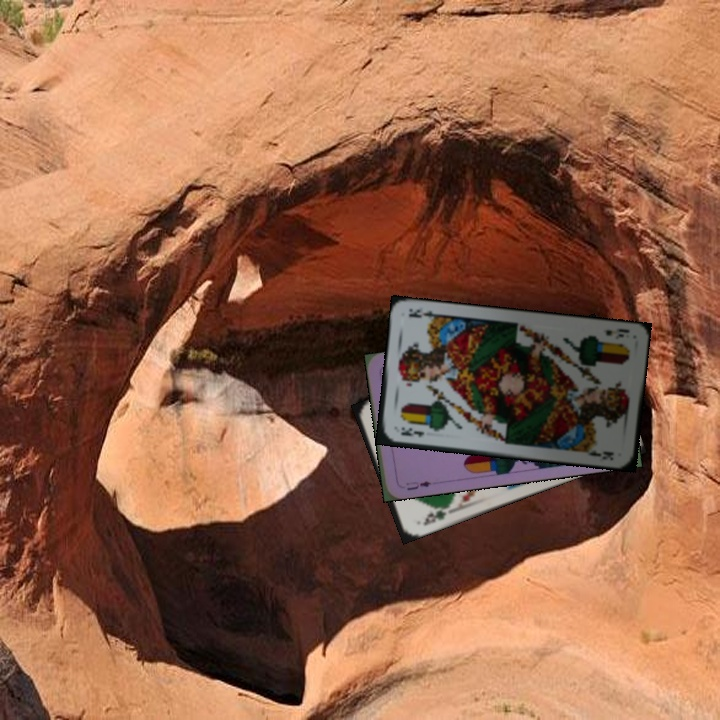EK: (599, 325, 632, 341), (397, 423, 427, 440)
EU: (402, 477, 433, 493)
GK: (419, 503, 449, 528)
